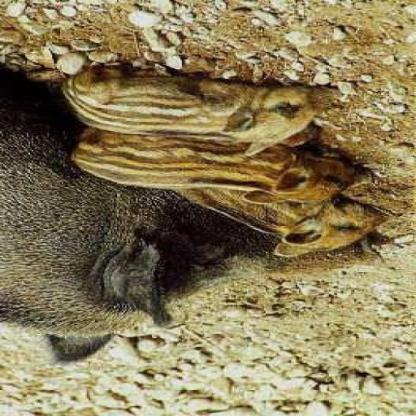boar: (0, 136, 398, 348), (88, 48, 334, 148), (85, 125, 386, 199), (181, 190, 400, 260)
